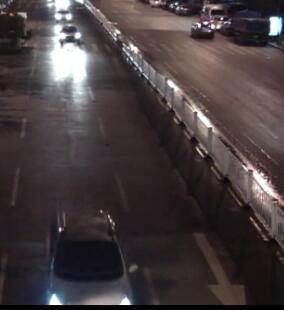car: (45, 205, 141, 306), (57, 21, 82, 46), (202, 2, 226, 28), (189, 19, 215, 39), (215, 14, 232, 31), (53, 7, 73, 21)
